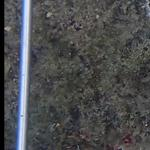dead: (34, 1, 147, 148)
